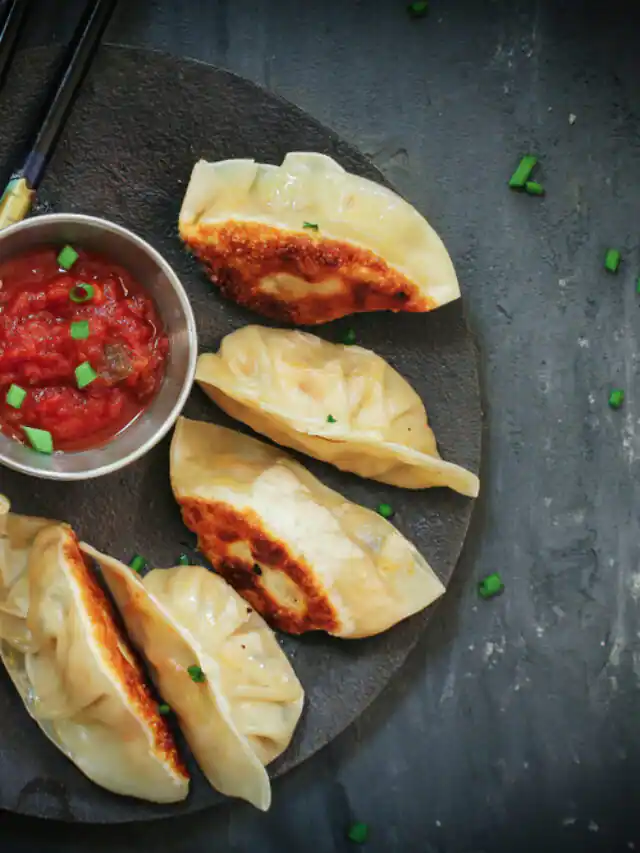momo: (172, 416, 452, 636), (94, 538, 304, 810), (0, 504, 192, 800), (174, 146, 468, 322), (200, 328, 484, 500)
